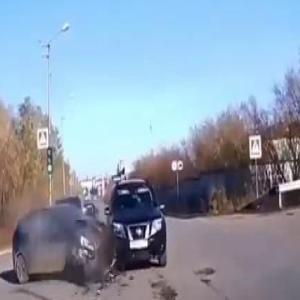moderate: (11, 172, 170, 290)
